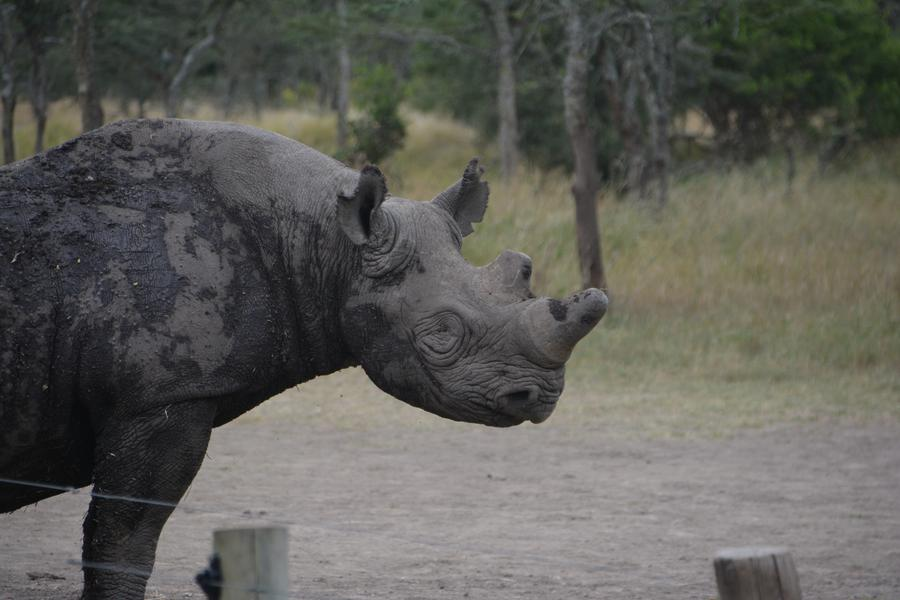rhino: (5, 100, 569, 510)
